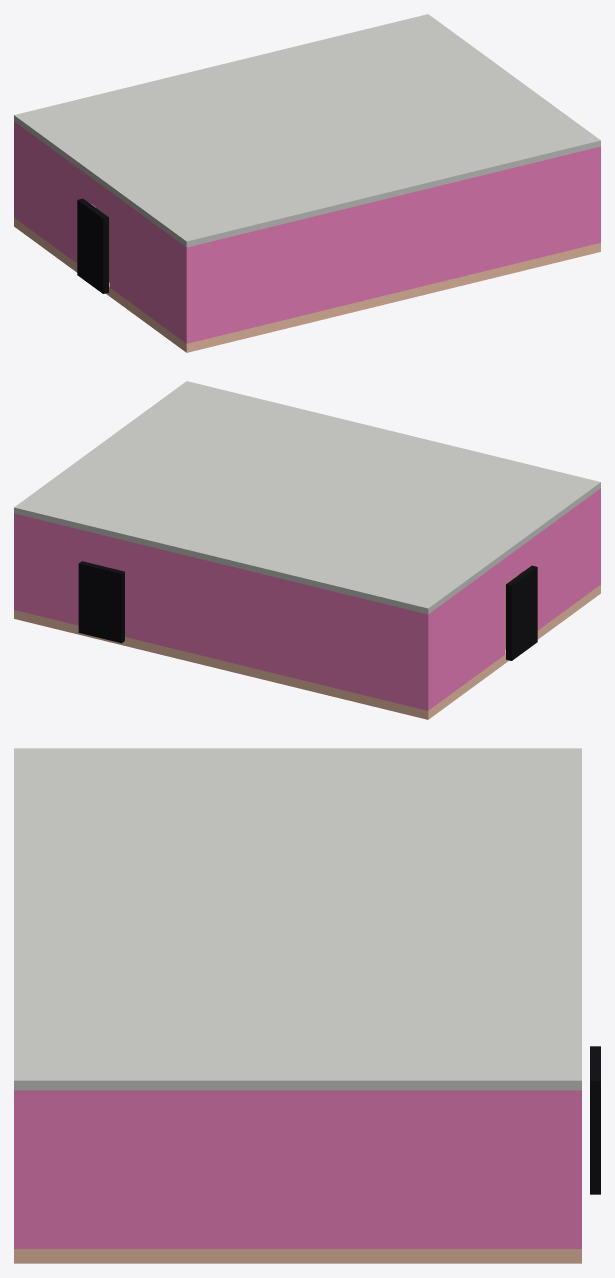
The model's file is rdwe_birthday_party.glb.
3 views of the same model, one above another, from view 1: azimuth 30°, elevation 25°; view 2: azimuth 150°, elevation 25°; view 3: azimuth 270°, elevation 25° (orthographic). The views are drawn at different scales.
Visible parts, largest first — view 1: Room_Ceiling, Room_Wall_S_1, Room_Wall_W_3, Room_Wall_W_1, Room_Floor, Beyond_table, Room_Wall_W_2; view 2: Room_Ceiling, Room_Wall_N_1, Room_Wall_W_1, Room_Wall_N_3, Room_Wall_W_3, Room_Floor, Beyond_attic, Beyond_table, Room_Wall_N_2, Room_Wall_W_2; view 3: Room_Ceiling, Room_Wall_E_1, Room_Floor, Room_Wall_N_3, Room_Wall_S_1, Beyond_attic.
Boxes of the visible parts, x1=… form: Room_Ceiling: x1=14, y1=14, x2=600, y2=247; Room_Wall_S_1: x1=183, y1=146, x2=600, y2=343; Room_Wall_W_3: x1=109, y1=191, x2=183, y2=340; Room_Wall_W_1: x1=17, y1=124, x2=96, y2=263; Room_Floor: x1=14, y1=218, x2=600, y2=352; Beyond_table: x1=77, y1=198, x2=108, y2=293; Room_Wall_W_2: x1=91, y1=178, x2=109, y2=216; Room_Ceiling: x1=14, y1=381, x2=600, y2=614; Room_Wall_N_1: x1=121, y1=539, x2=431, y2=710; Room_Wall_W_1: x1=431, y1=558, x2=505, y2=707; Room_Wall_N_3: x1=14, y1=513, x2=90, y2=625; Room_Wall_W_3: x1=518, y1=491, x2=597, y2=630; Room_Floor: x1=14, y1=585, x2=600, y2=719; Beyond_attic: x1=78, y1=561, x2=124, y2=643; Beyond_table: x1=506, y1=565, x2=537, y2=660; Room_Wall_N_2: x1=91, y1=532, x2=120, y2=570; Room_Wall_W_2: x1=505, y1=545, x2=523, y2=583; Room_Ceiling: x1=14, y1=748, x2=581, y2=1090; Room_Wall_E_1: x1=25, y1=1090, x2=570, y2=1248; Room_Floor: x1=14, y1=1249, x2=581, y2=1263; Room_Wall_N_3: x1=571, y1=1090, x2=581, y2=1248; Room_Wall_S_1: x1=14, y1=1090, x2=24, y2=1248; Beyond_attic: x1=590, y1=1046, x2=600, y2=1194.
Size of the model in its own units: 14.75 by 3.7 by 10.75.
